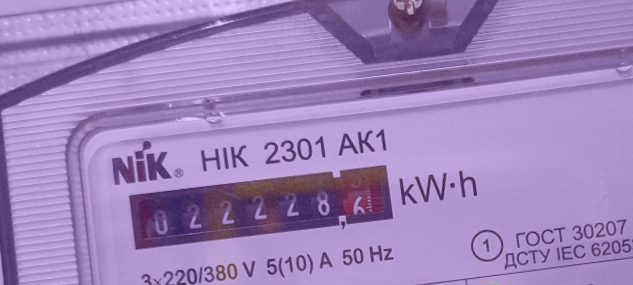0: (149, 205, 169, 236)
2: (182, 199, 204, 230), (247, 191, 268, 220), (281, 188, 301, 218), (216, 195, 235, 226)
5: (345, 168, 363, 190)
6: (348, 191, 366, 214)
8: (313, 187, 331, 216)
screen: (118, 150, 403, 258)
